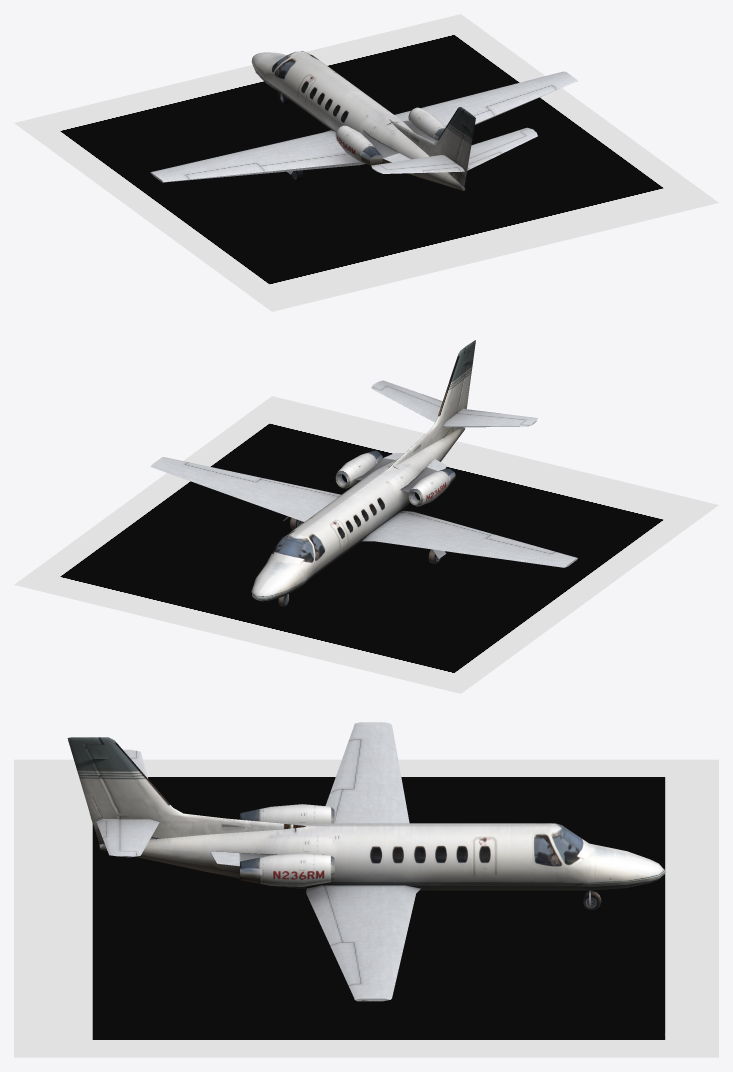
3 renders of one model, top to bottom at view 1: azimuth 30°, elevation 25°; view 2: azimuth 150°, elevation 25°; view 3: azimuth 270°, elevation 25°, orthographic. The views are drawn at different scales.
Parts seen in each view (by area): view 1: N236RM; view 2: N236RM; view 3: N236RM.
Boxes of the visible parts, x1,y1,x2,y2 form: N236RM: (14,14,718,311); N236RM: (14,340,718,693); N236RM: (14,722,718,1057).
Size of the model in its own units: 16.95 by 4.59 by 16.95.
